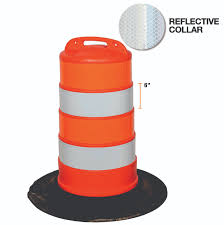barrel: (57, 37, 138, 196)
